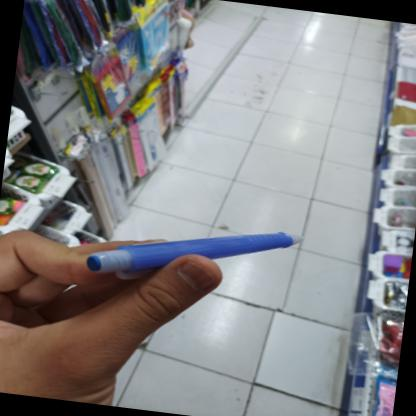pencil: (91, 230, 308, 279)
